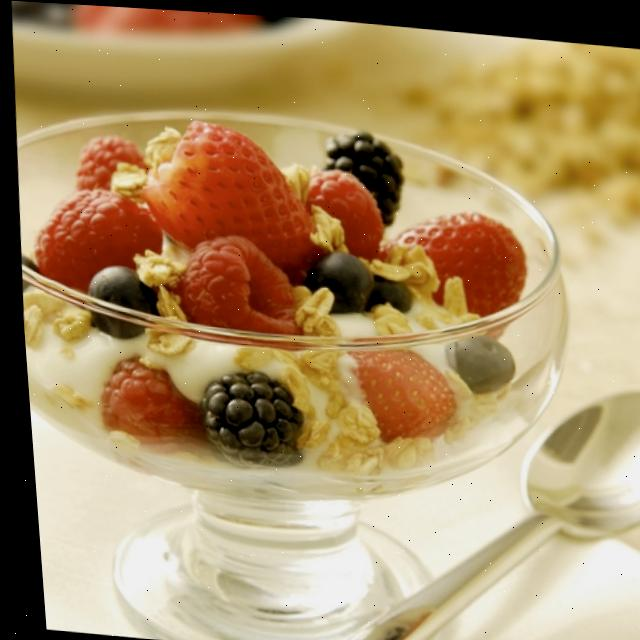蛋糕甜品: (2, 29, 640, 640)
